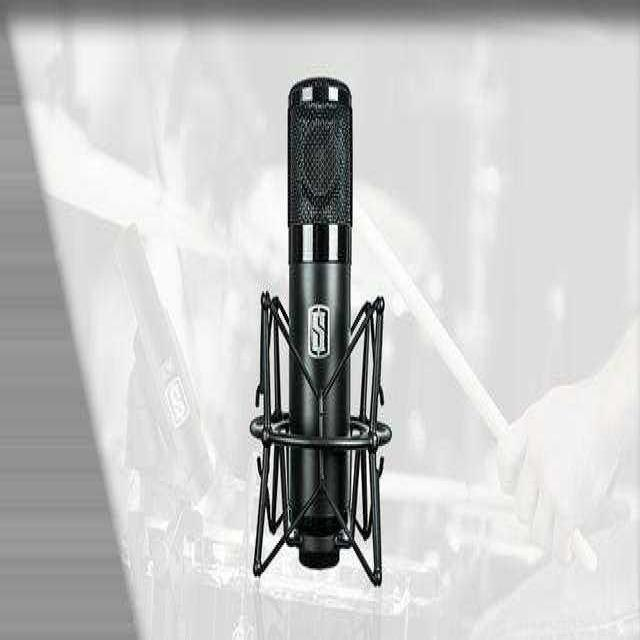microphone: (287, 71, 354, 574), (115, 226, 210, 503)
